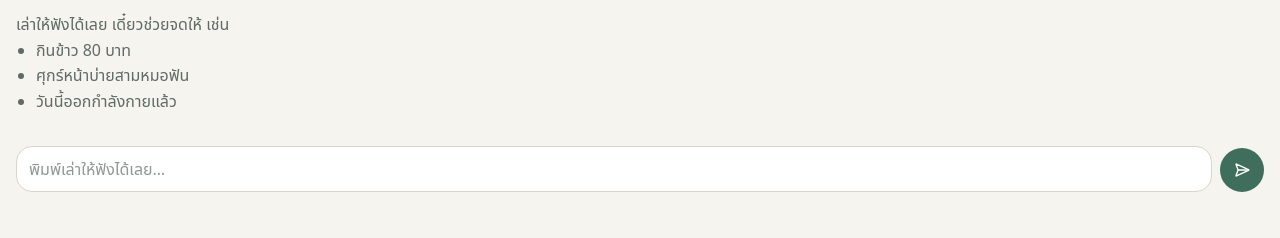
Test: failed send merges with a draft typed meanwhile
Expected: the list is shown, top-left (16, 13), bottom-right (229, 112)
In the text box labelled "พิมพ์เล่าให้ฟังได้เลย…": (614, 169) top-left (16, 146), bottom-right (1212, 192), type "อันแรก"
Then press Enter
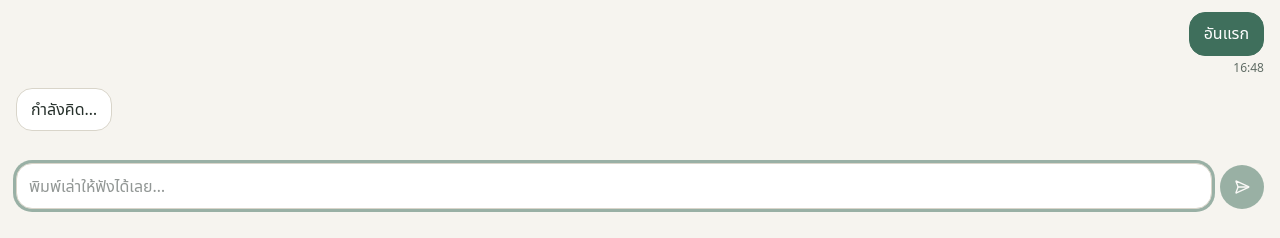
Expected: the text "กำลังคิด…" is shown, top-left (16, 88), bottom-right (112, 131)
In the text box labelled "พิมพ์เล่าให้ฟังได้เลย…": (614, 186) top-left (16, 163), bottom-right (1212, 209), type "อันใหม่"
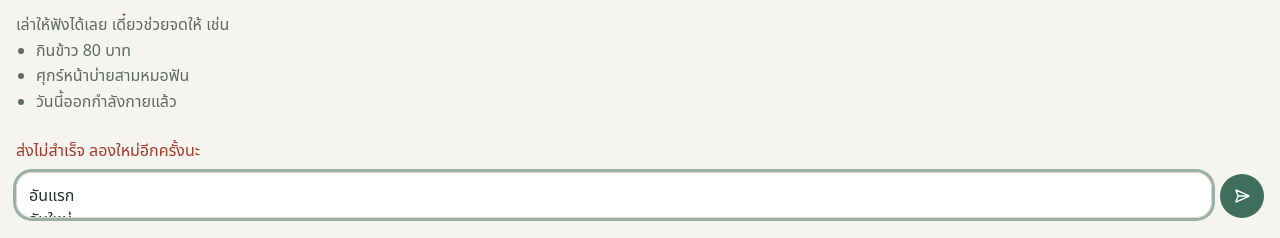
Expected: the message "ส่งไม่สำเร็จ ลองใหม่อีกครั้งนะ" is shown, top-left (16, 139), bottom-right (200, 161)
